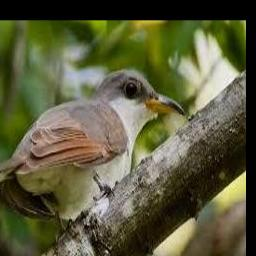Cuckoo: (0, 68, 186, 233)
